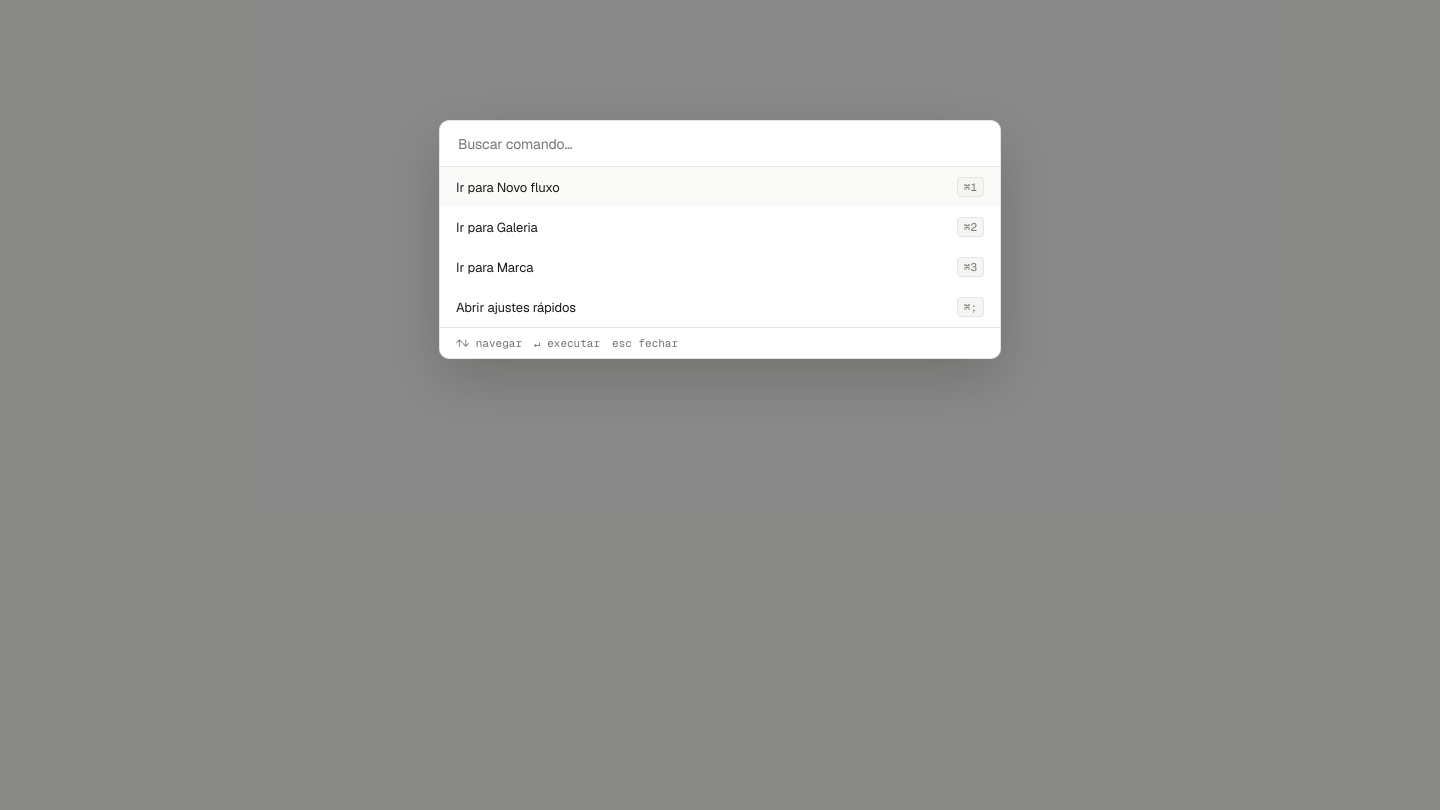
Scenario: CommandPalette › search input filters the list by label substring
Type "Galeria" into the field with placeholder "Buscar comando…" at (722, 144), box [456,134,988,154]
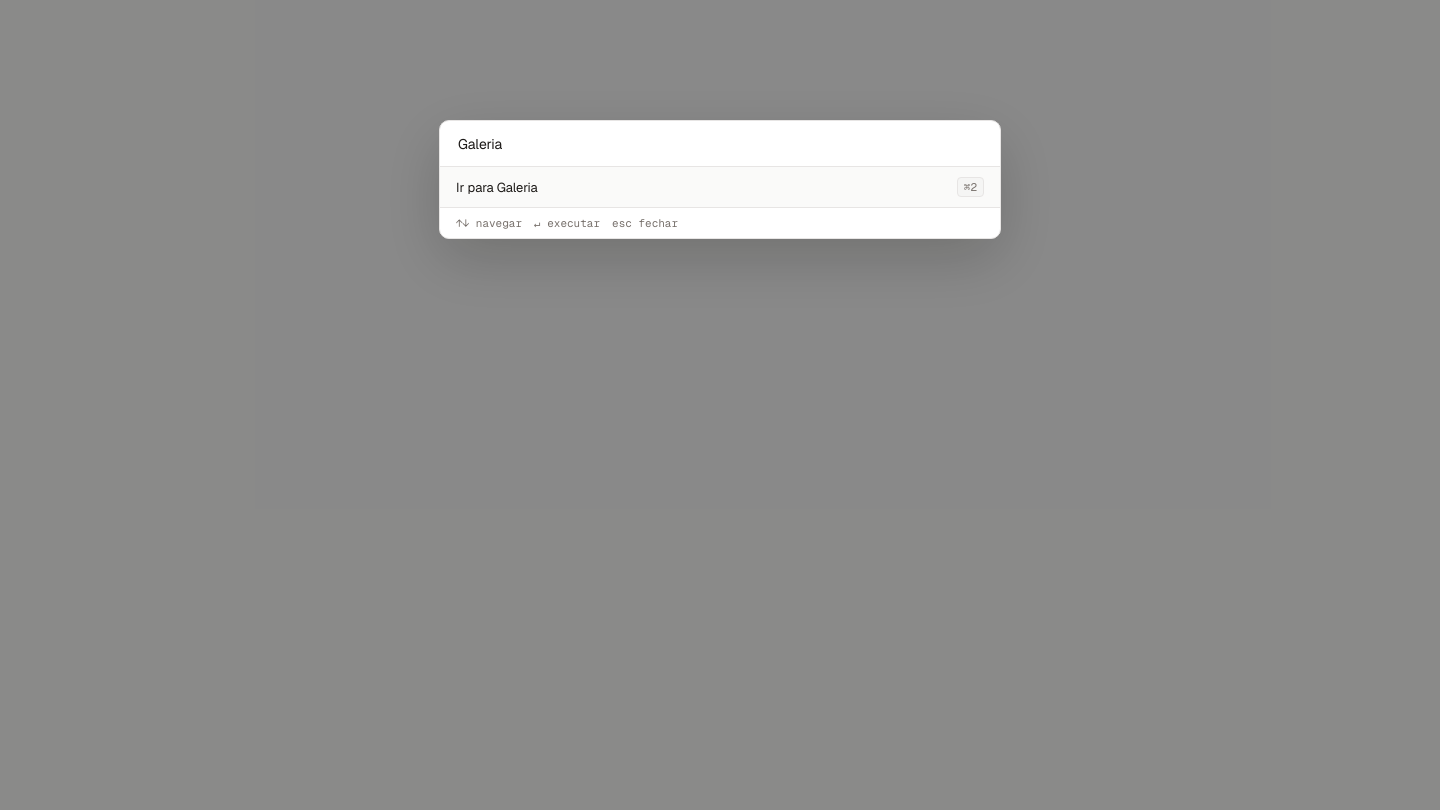
Expected: the text "Ir para Galeria" is shown, [456,178,538,196]
Expected: the text "Ir para Novo fluxo" is gone
